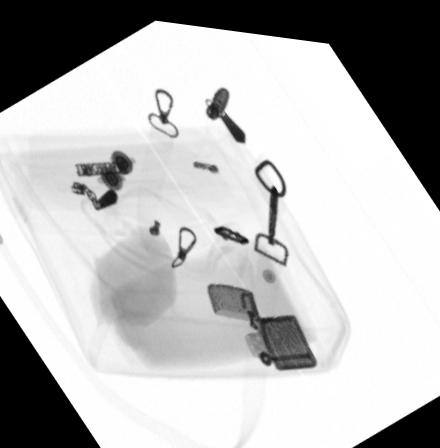Lighter: (204, 276, 318, 364)
